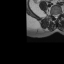CCS_normal: (55, 12, 57, 20)
LFS_normal: (58, 11, 60, 17)
LLS_normal: (57, 12, 58, 19)
RFS_normal: (52, 11, 53, 17)
RLS_normal: (53, 12, 55, 19)
